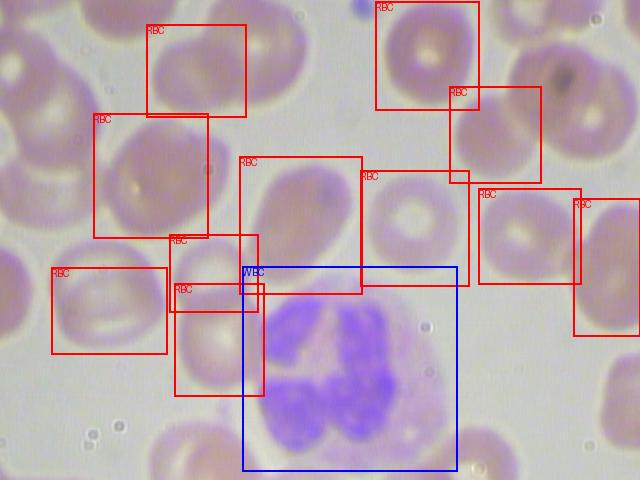RBC: (239, 156, 362, 294), (93, 113, 208, 238), (360, 170, 469, 286), (375, 1, 479, 110), (174, 283, 264, 396), (51, 267, 167, 354), (478, 188, 581, 284), (146, 24, 246, 117), (573, 198, 640, 336), (449, 86, 541, 183), (169, 234, 258, 312)
WBC: (242, 266, 457, 471)
